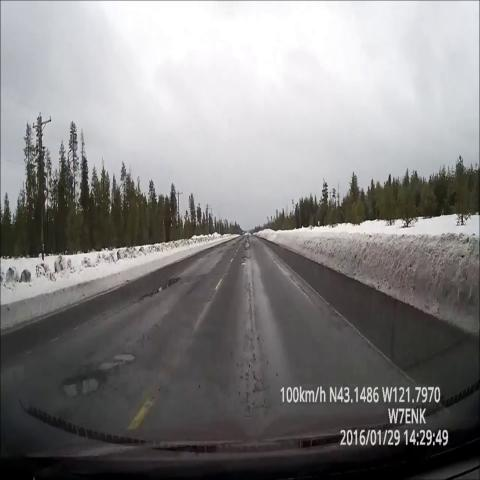pothole: (60, 346, 126, 410), (135, 268, 180, 314), (234, 255, 256, 274), (239, 232, 257, 254)
